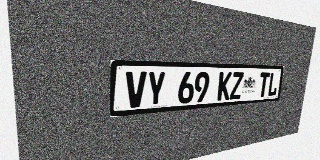6: (177, 72, 195, 104)
9: (193, 72, 210, 103)
K: (217, 72, 232, 101)
L: (267, 72, 279, 97)
T: (257, 72, 270, 97)
V: (125, 71, 147, 108)
Y: (146, 71, 166, 107)
Z: (229, 72, 244, 100)
